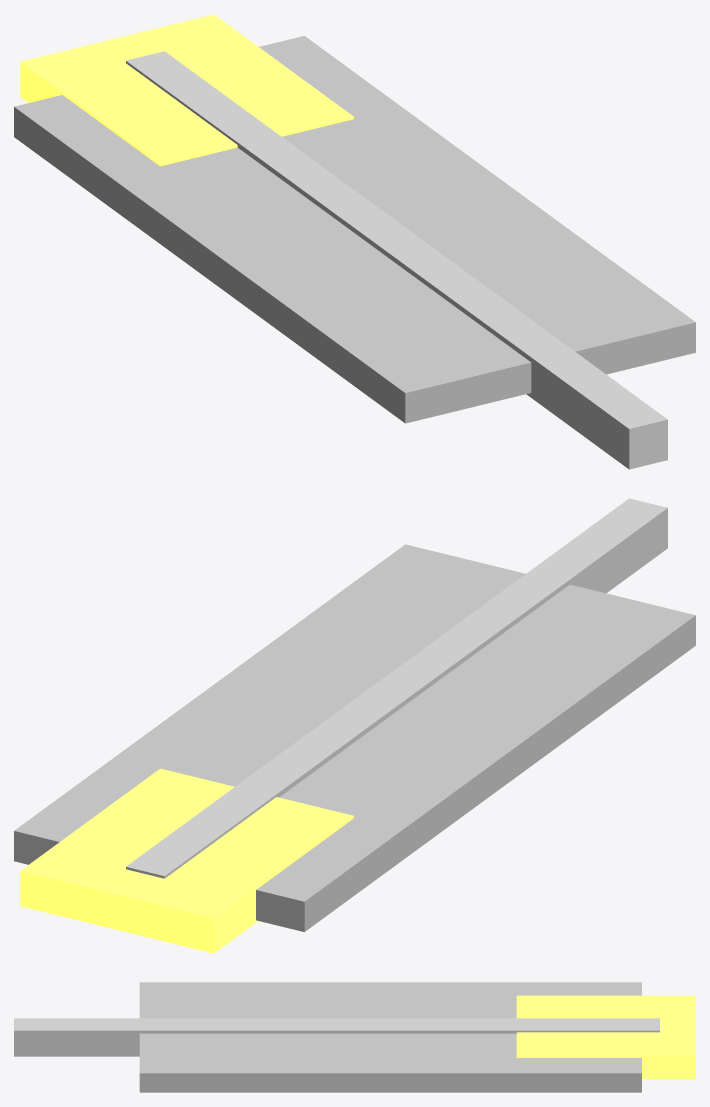
File: PhoenixFeather.fbx
The picture shows the model from 3 angles, top to bottom: view 1: azimuth 30°, elevation 25°; view 2: azimuth 150°, elevation 25°; view 3: azimuth 270°, elevation 25°; orthographic projection. The views are drawn at different scales.
Visible parts, largest first — view 1: Phoenix Feather_body_1, Phoenix Feather_body_0, Phoenix Feather_body_2; view 2: Phoenix Feather_body_1, Phoenix Feather_body_2, Phoenix Feather_body_0; view 3: Phoenix Feather_body_1, Phoenix Feather_body_0, Phoenix Feather_body_2.
Part boxes in pixels (x1,y1,x2,y2): Phoenix Feather_body_1: [14, 36, 695, 423]; Phoenix Feather_body_0: [126, 51, 667, 469]; Phoenix Feather_body_2: [20, 14, 353, 166]; Phoenix Feather_body_1: [14, 544, 695, 931]; Phoenix Feather_body_2: [20, 768, 353, 953]; Phoenix Feather_body_0: [126, 498, 667, 878]; Phoenix Feather_body_1: [139, 982, 641, 1092]; Phoenix Feather_body_0: [14, 1018, 659, 1056]; Phoenix Feather_body_2: [516, 995, 695, 1079].
Bounding box in the file's own units: 60 × 8 × 190.
